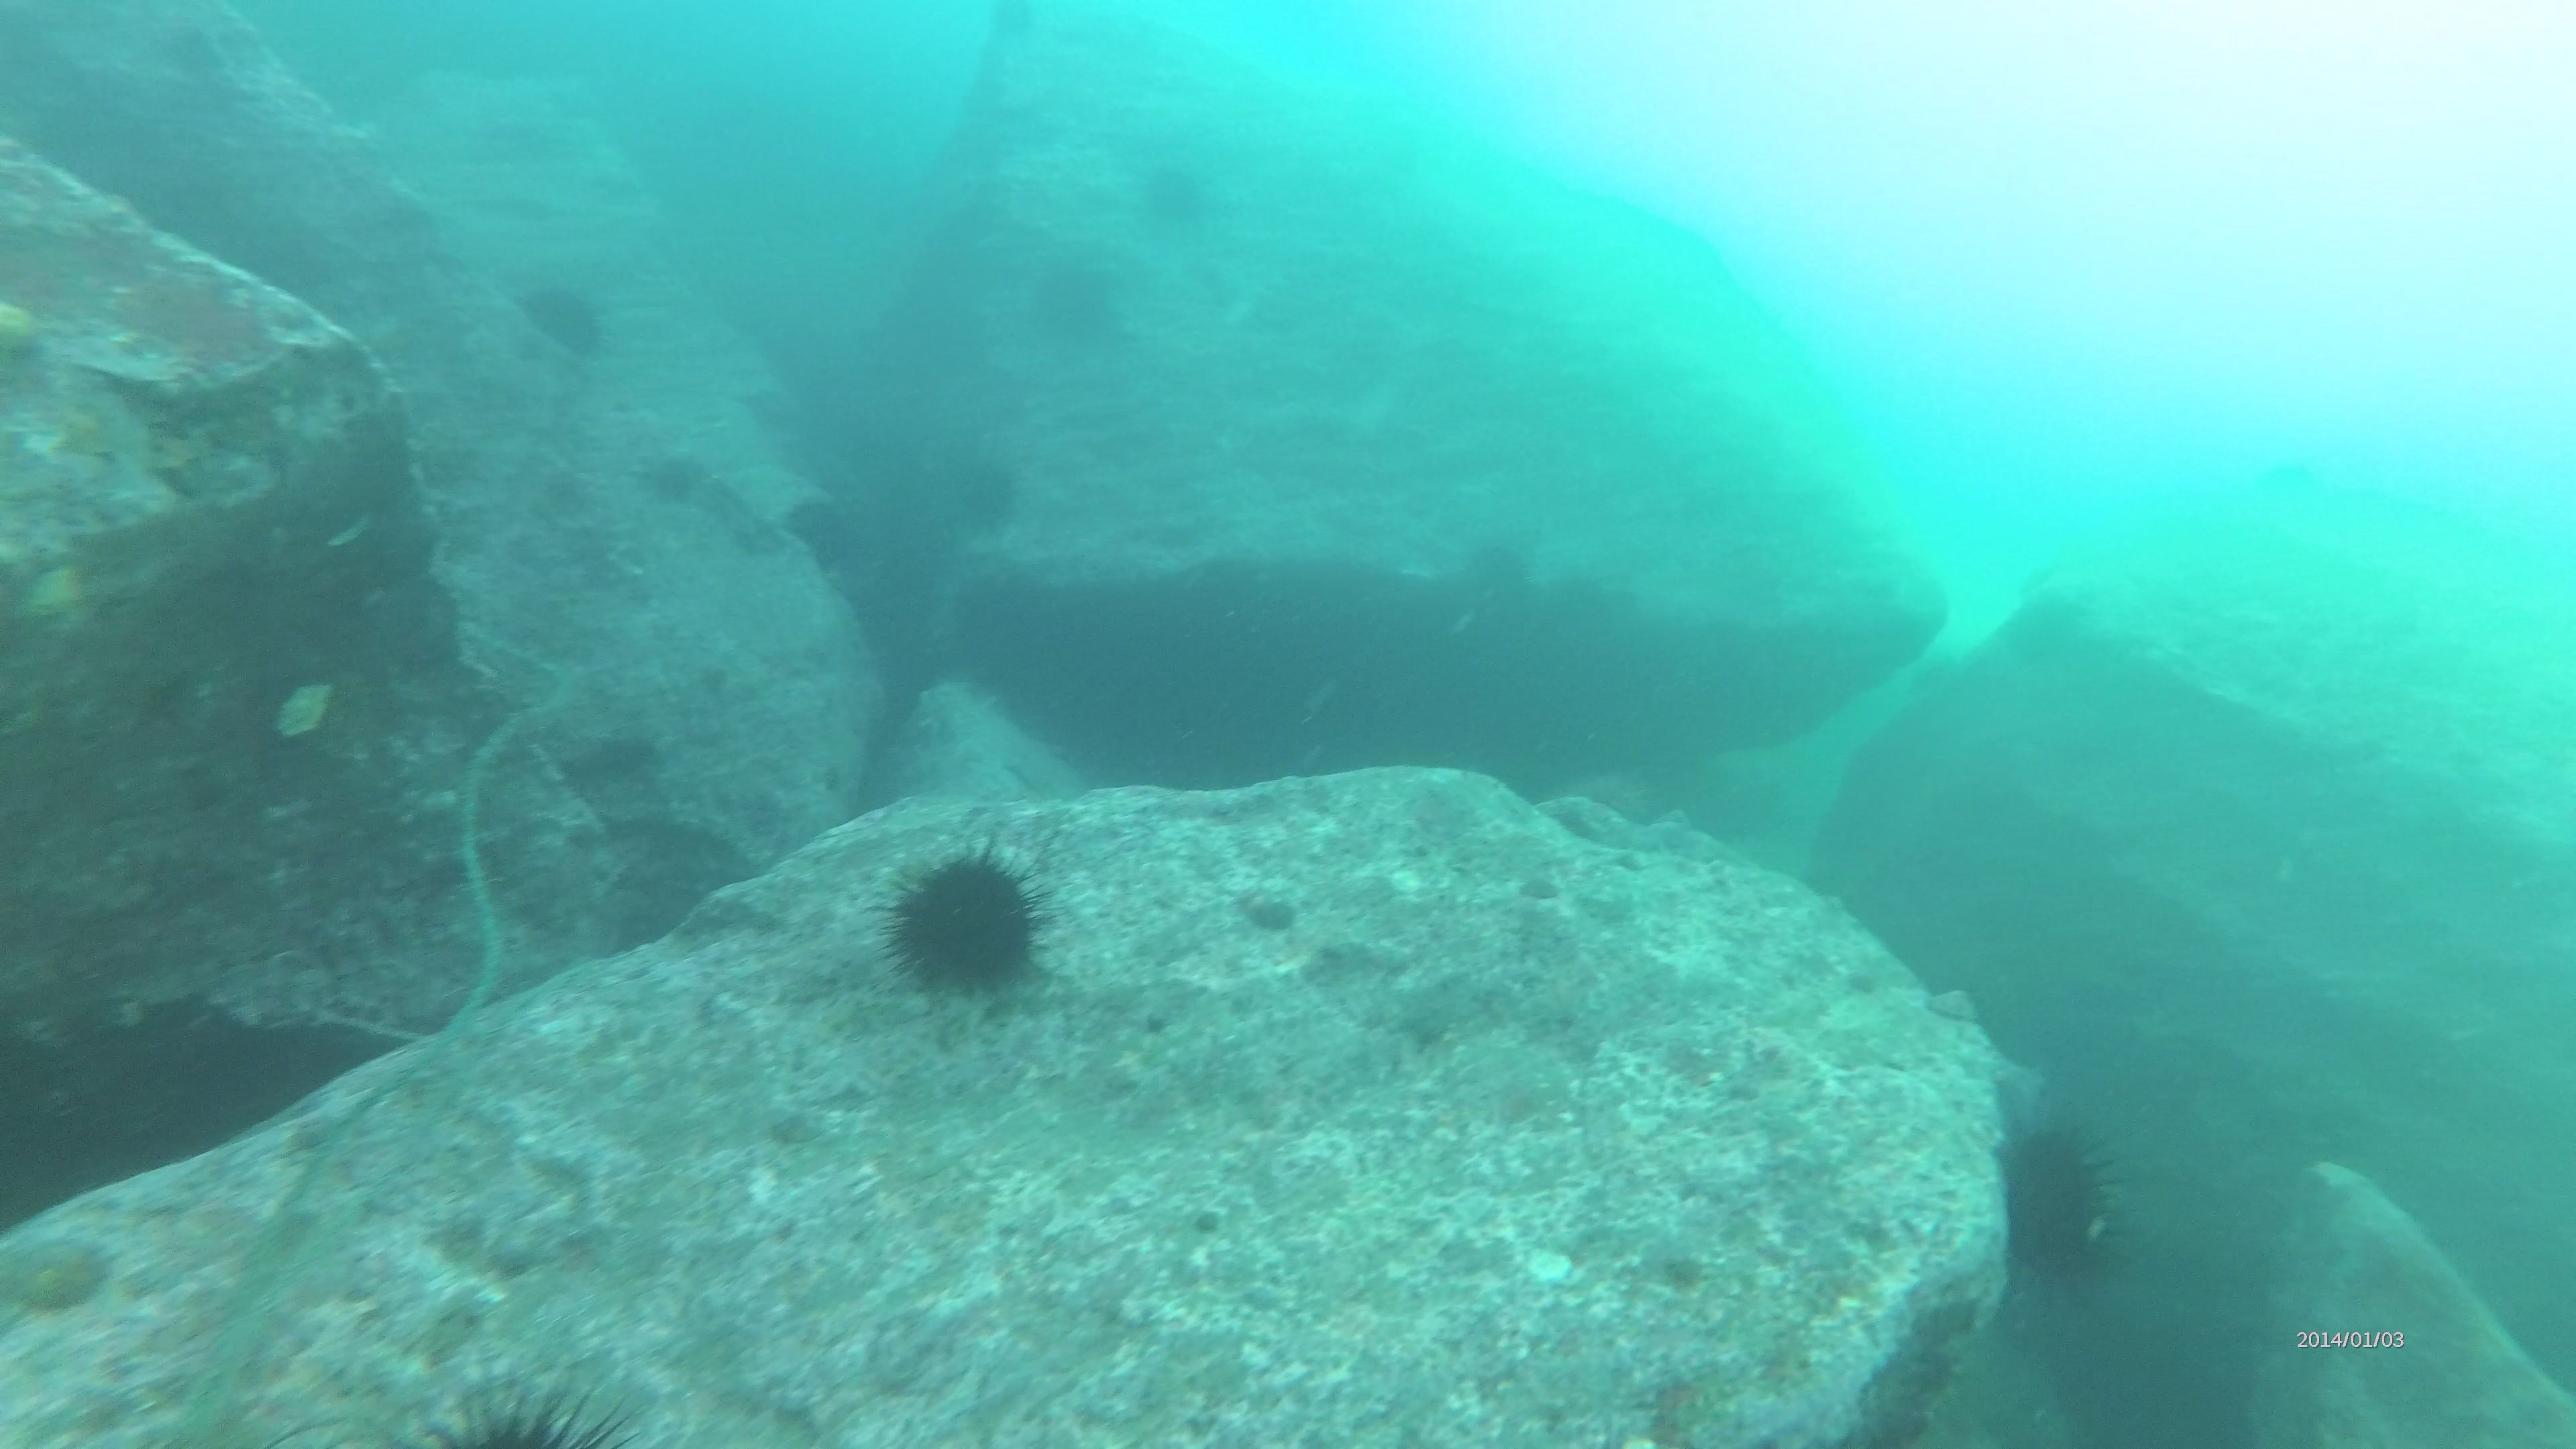echinus: (863, 837, 1081, 1000), (1978, 1104, 2150, 1307), (1014, 241, 1127, 343), (1131, 156, 1215, 251), (936, 451, 1030, 529)
